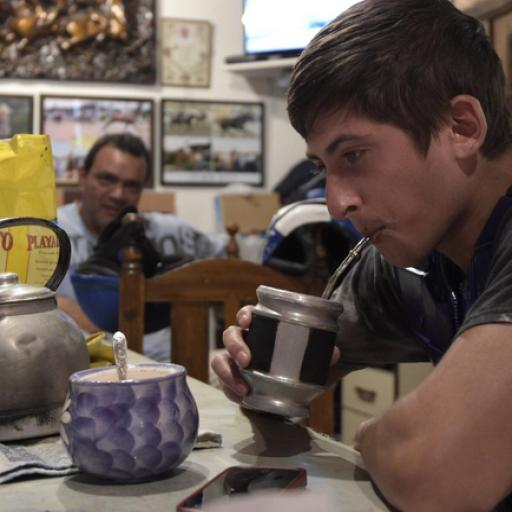mate: (241, 286, 343, 418)
